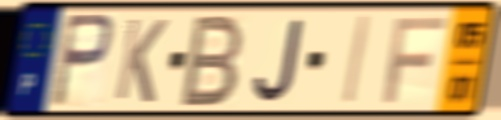B: (176, 11, 247, 110)
F: (380, 14, 449, 106)
I: (340, 13, 375, 108)
J: (251, 15, 308, 106)
K: (111, 15, 170, 106)
P: (48, 11, 116, 111)
